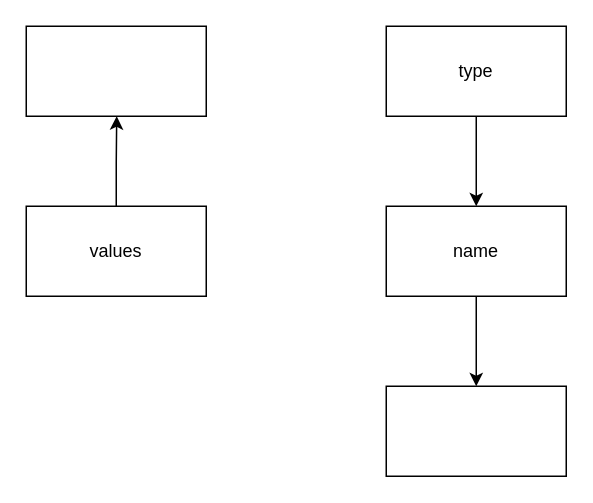
This 593x503 diagram has some shape labels left out. The shapes that lost their labels are listed below. From the top down, each one's box as (x1, y1, x2, y2) in pixels, then its label:
(25, 25, 206, 116): root
(385, 385, 566, 476): convert
